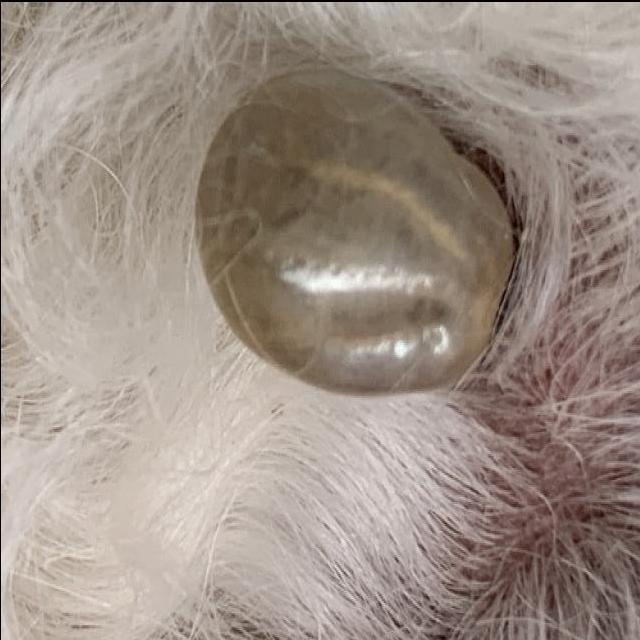Ixodes Ricinus-F-Fed: (191, 63, 515, 396)
